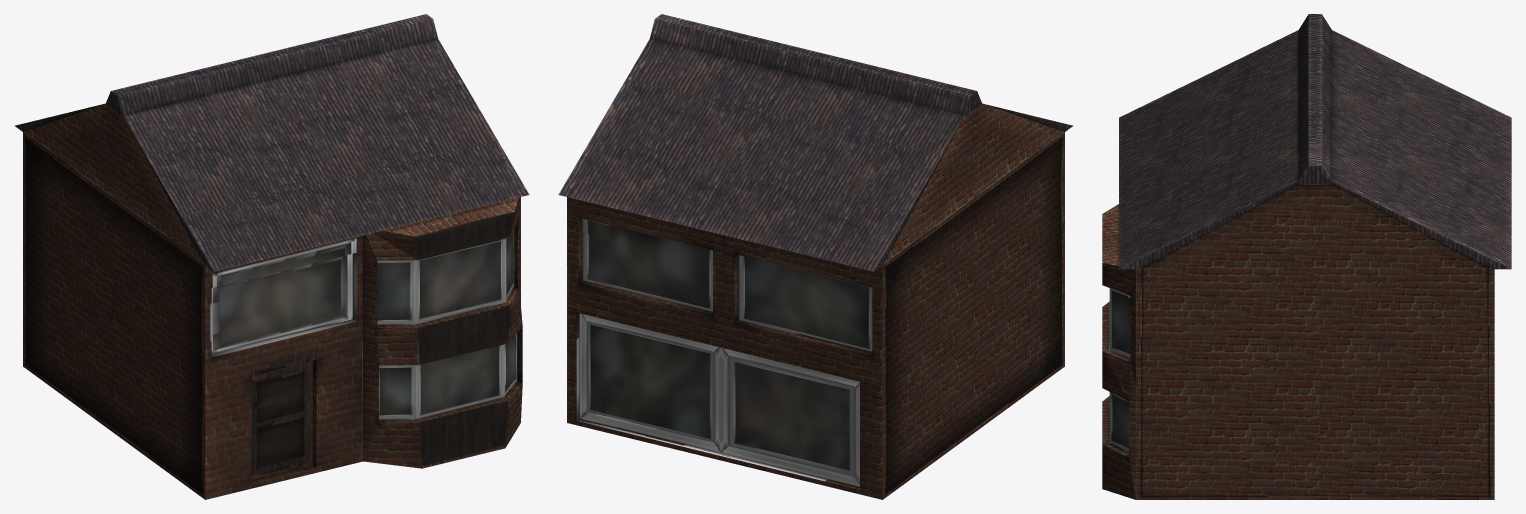
The model's file is house.obj.
3 renders of one model, left to right at view 1: azimuth 30°, elevation 25°; view 2: azimuth 150°, elevation 25°; view 3: azimuth 270°, elevation 25°, orthographic.
Visible parts, largest first — view 1: House_Cube.036; view 2: House_Cube.036; view 3: House_Cube.036.
Boxes of the visible parts, bbox=[...] form: House_Cube.036: bbox=[14, 14, 529, 499]; House_Cube.036: bbox=[558, 14, 1073, 499]; House_Cube.036: bbox=[1102, 14, 1511, 499].
Size of the model in its own units: 5.59 by 5.83 by 6.38.
1 material, 1 textured.
